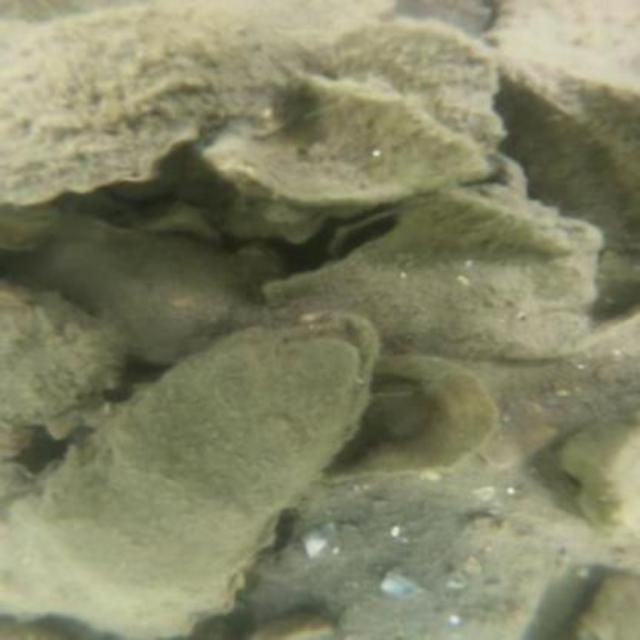Oyster-Closed: (17, 311, 387, 623), (0, 4, 309, 210), (267, 191, 603, 359), (190, 72, 525, 240), (0, 461, 202, 638), (38, 222, 253, 357), (312, 353, 505, 483), (312, 21, 493, 141), (0, 276, 122, 429), (419, 186, 580, 254), (575, 574, 638, 638)
Oyster-Open: (318, 197, 412, 265)
